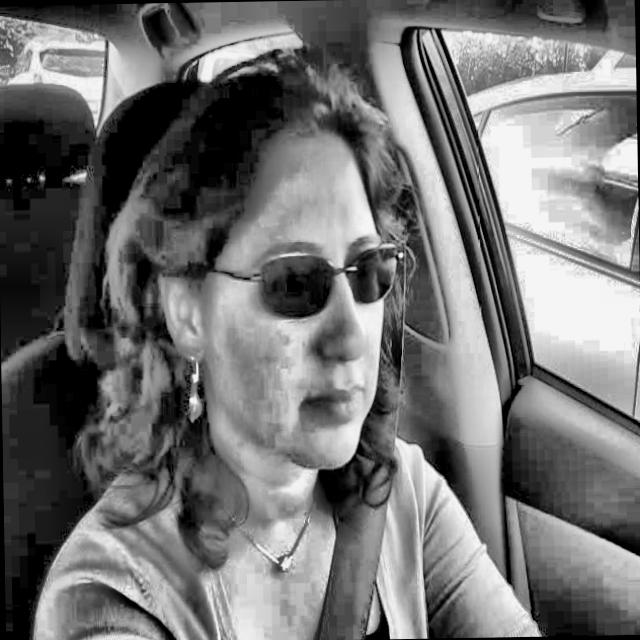closed_mouth: (283, 370, 392, 445)
